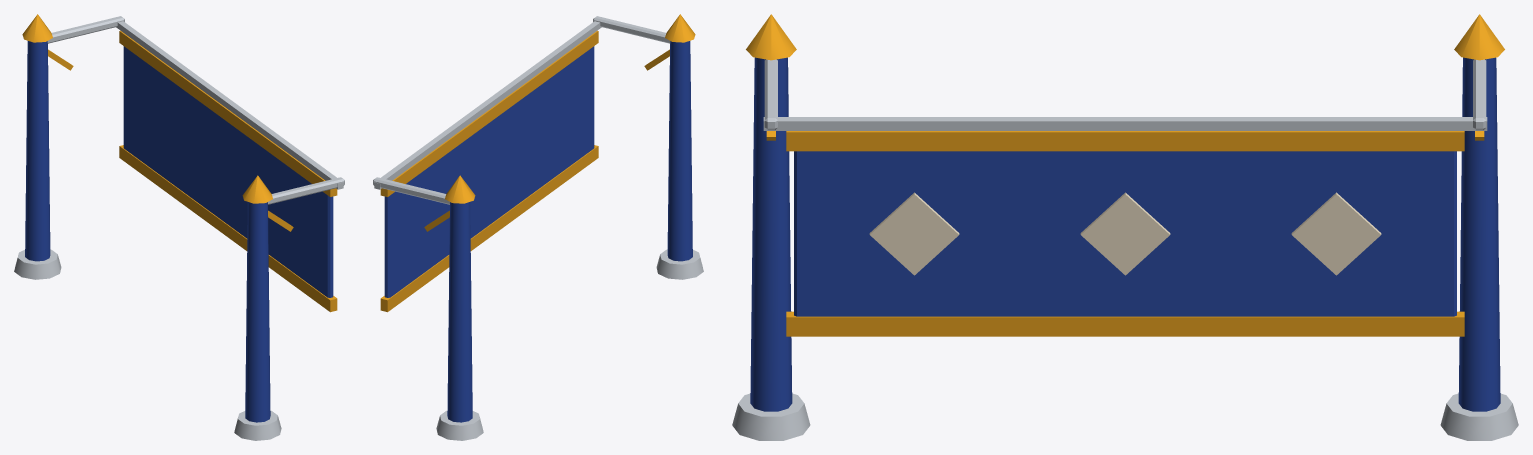
File: banner.obj
3 renders of one model, left to right at view 1: azimuth 30°, elevation 25°; view 2: azimuth 150°, elevation 25°; view 3: azimuth 270°, elevation 25°, orthographic. The views are drawn at different scales.
Parts seen in each view (by area): view 1: cloth, mast_b, mast_a, cloth_top, cloth_bottom, cable, base_b, base_a, arm_b, arm_a, mast_cap_b, mast_cap_a; view 2: cloth, mast_a, mast_b, cloth_top, cloth_bottom, cable, base_a, base_b, arm_a, arm_b, mast_cap_a, mast_cap_b; view 3: cloth, cloth_bottom, cloth_top, mast_a, mast_b, cable, emblem_1, emblem_0, emblem_2, base_a, base_b, mast_cap_a (+3 smaller).
Part boxes in pixels (x1=…): cloth: x1=123, y1=46, x2=333, y2=297; mast_b: x1=245, y1=202, x2=270, y2=422; mast_a: x1=25, y1=41, x2=50, y2=261; cloth_top: x1=119, y1=30, x2=337, y2=196; cloth_bottom: x1=119, y1=145, x2=337, y2=312; cable: x1=116, y1=21, x2=343, y2=189; base_b: x1=234, y1=410, x2=281, y2=440; base_a: x1=14, y1=249, x2=61, y2=279; arm_b: x1=268, y1=177, x2=344, y2=204; arm_a: x1=47, y1=16, x2=124, y2=43; mast_cap_b: x1=242, y1=175, x2=272, y2=203; mast_cap_a: x1=22, y1=14, x2=52, y2=42; cloth: x1=384, y1=46, x2=594, y2=297; mast_a: x1=447, y1=202, x2=472, y2=422; mast_b: x1=667, y1=41, x2=692, y2=261; cloth_top: x1=380, y1=30, x2=598, y2=196; cloth_bottom: x1=380, y1=145, x2=598, y2=312; cable: x1=374, y1=21, x2=601, y2=189; base_a: x1=436, y1=410, x2=483, y2=440; base_b: x1=656, y1=249, x2=703, y2=279; arm_a: x1=373, y1=177, x2=449, y2=204; arm_b: x1=593, y1=16, x2=670, y2=43; mast_cap_a: x1=445, y1=175, x2=475, y2=203; mast_cap_b: x1=665, y1=14, x2=695, y2=42; cloth: x1=794, y1=151, x2=1456, y2=316; cloth_bottom: x1=786, y1=311, x2=1464, y2=336; cloth_top: x1=786, y1=131, x2=1464, y2=151; mast_a: x1=1458, y1=57, x2=1500, y2=411; mast_b: x1=750, y1=57, x2=792, y2=411; cable: x1=763, y1=117, x2=1487, y2=130; emblem_1: x1=1080, y1=192, x2=1170, y2=275; emblem_0: x1=1291, y1=192, x2=1381, y2=275; emblem_2: x1=869, y1=192, x2=959, y2=275; base_a: x1=1440, y1=393, x2=1518, y2=440; base_b: x1=732, y1=393, x2=810, y2=440; mast_cap_a: x1=1454, y1=14, x2=1504, y2=60.
Bounding box in the file's own units: 1.3 × 3 × 5.2.
